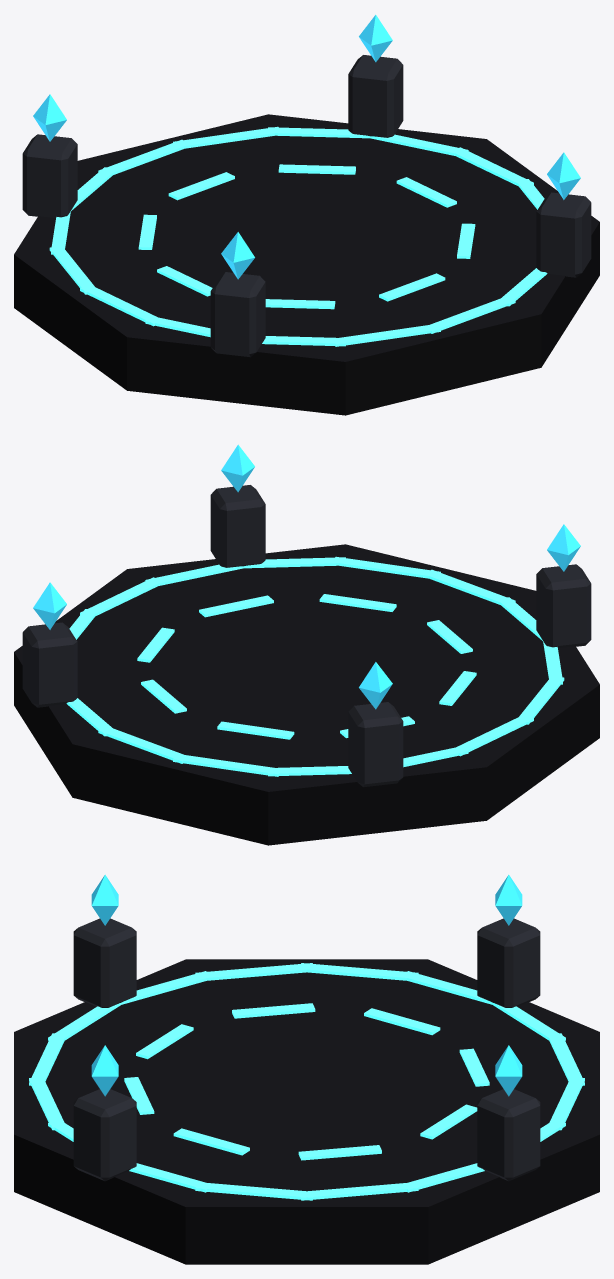
File: SM_Portal_FloorRing.glb
The picture shows the model from 3 angles, top to bottom: view 1: azimuth 30°, elevation 25°; view 2: azimuth 150°, elevation 25°; view 3: azimuth 270°, elevation 25°; orthographic projection. The views are drawn at different scales.
Parts seen in each view (by area): view 1: SM_Portal_FloorRing; view 2: SM_Portal_FloorRing; view 3: SM_Portal_FloorRing.
Part boxes in pixels (<box>): SM_Portal_FloorRing: <box>14,14,599,415</box>; SM_Portal_FloorRing: <box>14,444,599,845</box>; SM_Portal_FloorRing: <box>14,874,599,1264</box>.
Size of the model in its own units: 1.85 by 0.63 by 1.85.
Materials: 1 (1 with a texture image).
